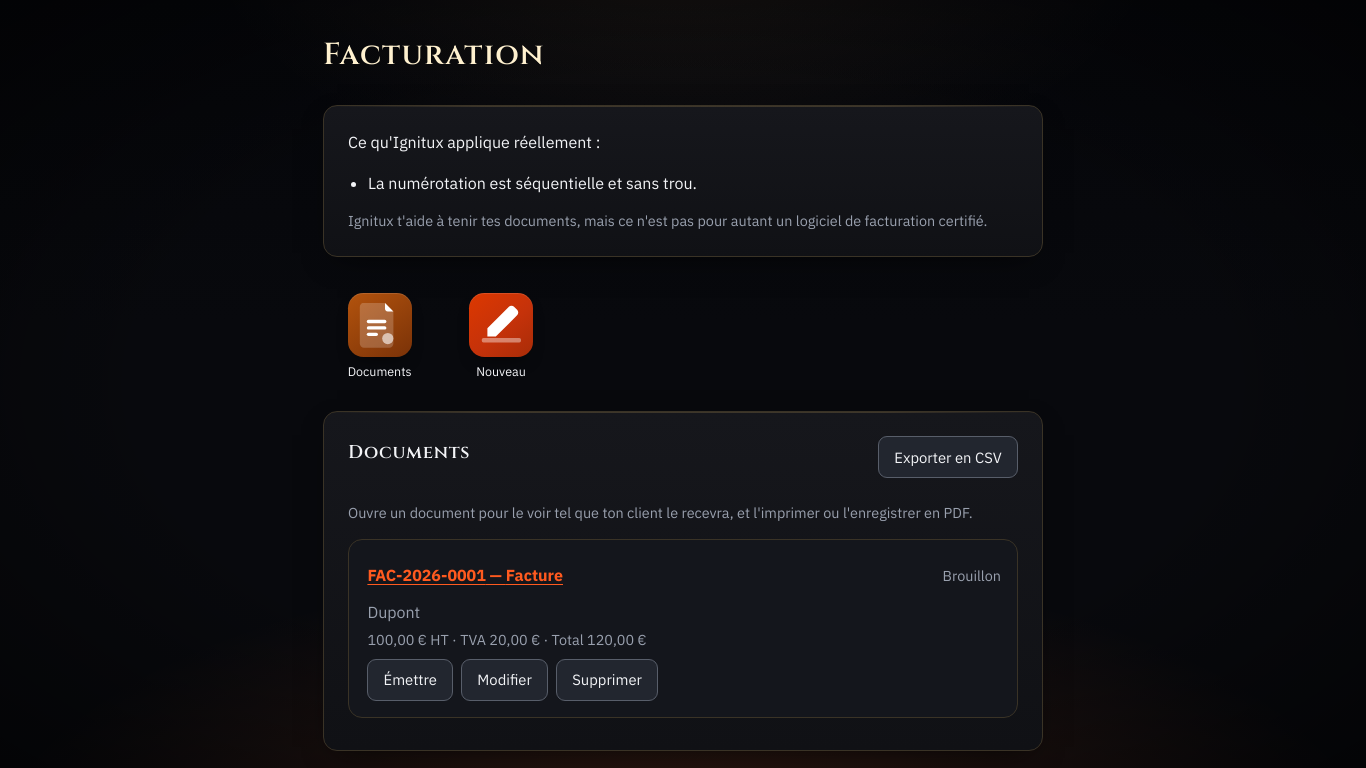
Test case: BillingPage › remonte le refus du serveur au lieu d'échouer en silence
Click the button "Émettre" at (410, 680), box left=367, top=659, right=453, bottom=701
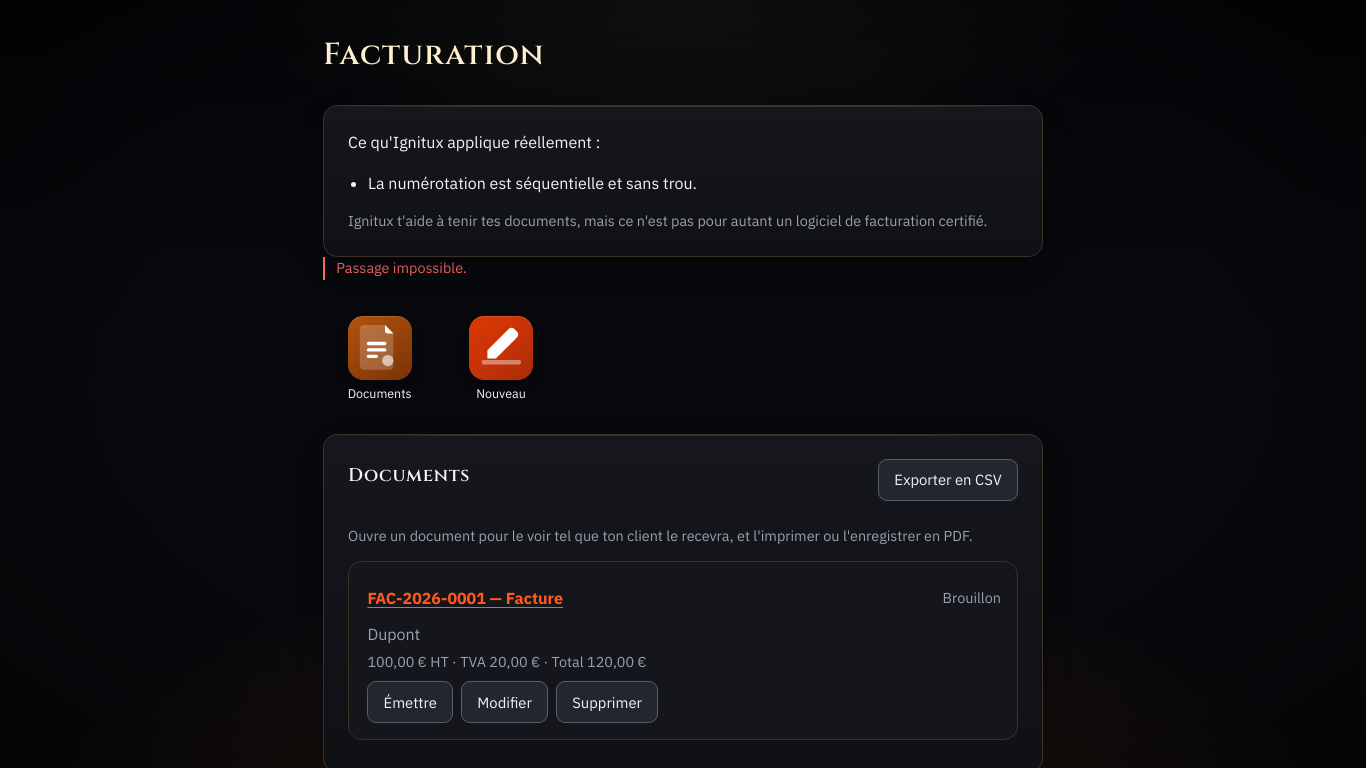
Now the text "Passage impossible." is shown, box left=323, top=257, right=1043, bottom=280
